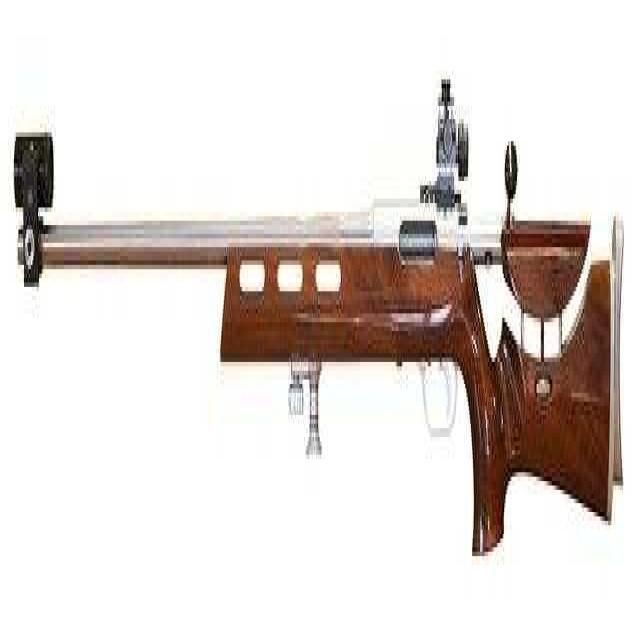heavyweapon: (7, 14, 637, 584)
